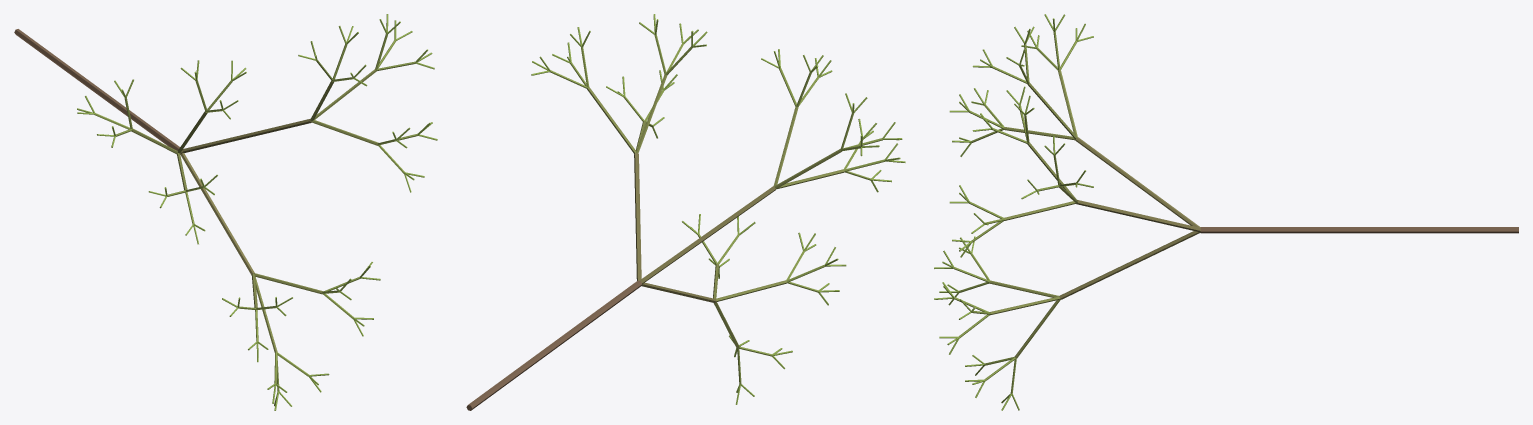
Rendered from tree-3d.glb.
3 views of the same model, side by side, from view 1: azimuth 30°, elevation 25°; view 2: azimuth 150°, elevation 25°; view 3: azimuth 270°, elevation 25° (orthographic). The views are drawn at different scales.
Visible parts, largest first — view 1: world; view 2: world; view 3: world.
Boxes of the visible parts, <box> form: world: <box>14,14,437,410</box>; world: <box>466,14,905,410</box>; world: <box>934,14,1518,410</box>.
Size of the model in its own units: 9.44 by 9.66 by 14.71.
